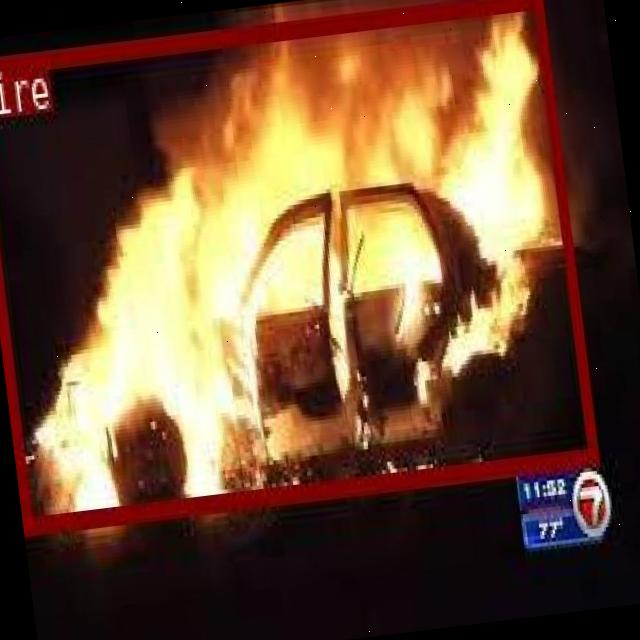fire: (0, 0, 597, 531)
